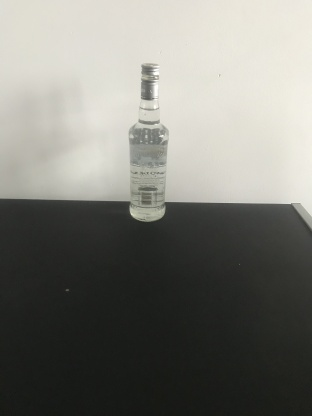nakretka: (139, 60, 160, 100)
